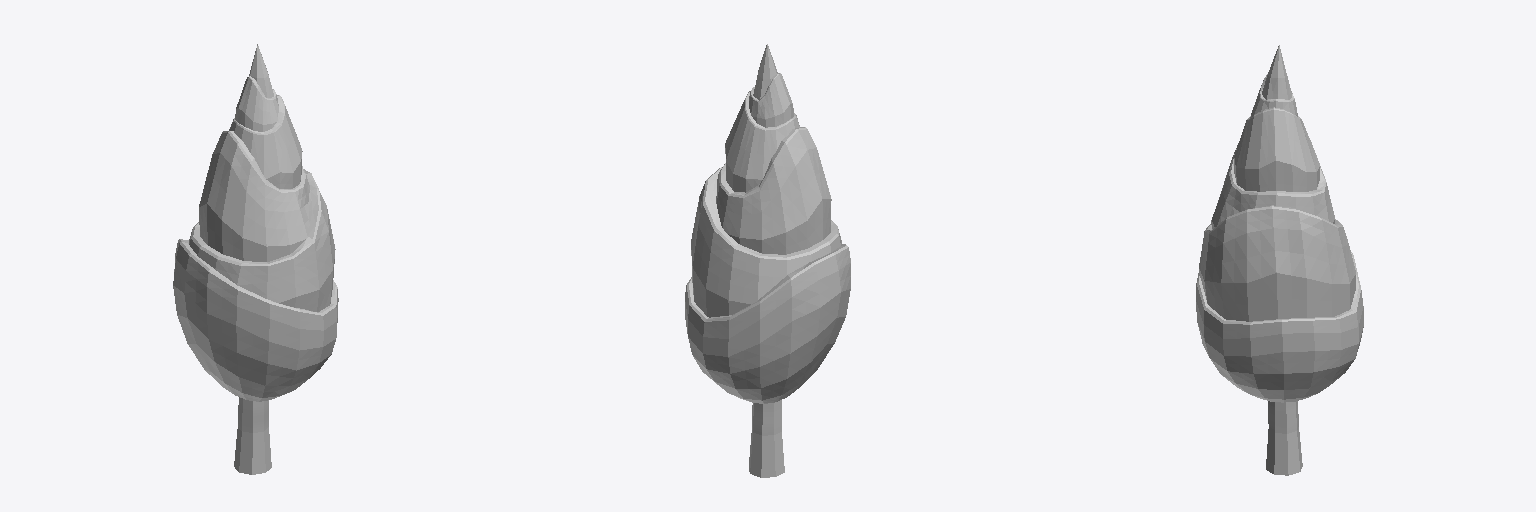
The model's file is PineTree.obj.
3 views of the same model, side by side, from view 1: azimuth 30°, elevation 25°; view 2: azimuth 150°, elevation 25°; view 3: azimuth 270°, elevation 25° (orthographic).
Parts seen in each view (by area): view 1: Tree.004_Cylinder.012; view 2: Tree.004_Cylinder.012; view 3: Tree.004_Cylinder.012.
Part boxes in pixels (x1,y1,x2,y2): Tree.004_Cylinder.012: (173, 44, 338, 474); Tree.004_Cylinder.012: (685, 44, 850, 477); Tree.004_Cylinder.012: (1196, 45, 1363, 475).
Bounding box in the file's own units: 2.02 × 5.64 × 2.03.